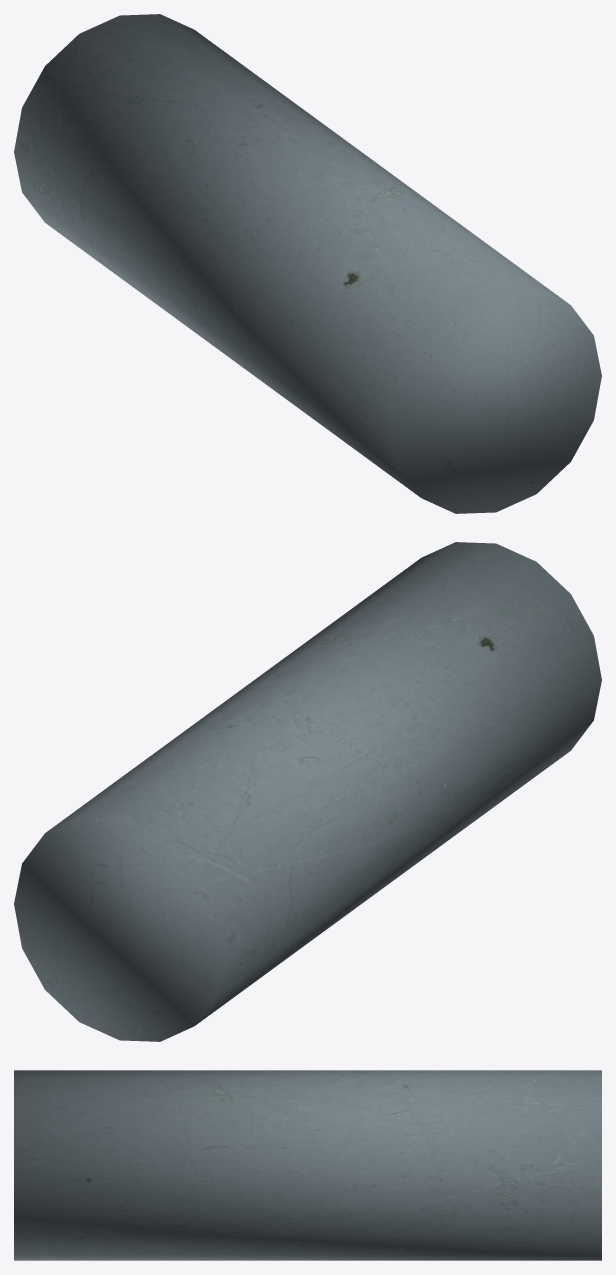
The model's file is Rotator2.FBX.
3 renders of one model, top to bottom at view 1: azimuth 30°, elevation 25°; view 2: azimuth 150°, elevation 25°; view 3: azimuth 270°, elevation 25°, orthographic. The views are drawn at different scales.
Visible parts, largest first — view 1: Rotator2; view 2: Rotator2; view 3: Rotator2.
Boxes of the visible parts, x1,y1,x2,y2 form: Rotator2: [14, 14, 601, 513]; Rotator2: [14, 542, 601, 1041]; Rotator2: [14, 1070, 601, 1260].
Bounding box in the file's own units: 12 × 37 × 12.
